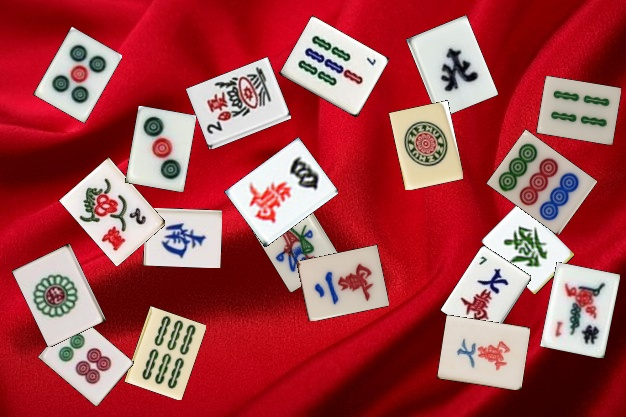bamboo-1: (248, 192, 342, 292)
bamboo-4: (536, 76, 621, 145)
bamboo-6: (124, 305, 206, 400)
bamboo-7: (279, 15, 389, 117)
bonus-plum: (540, 261, 620, 358)
bonus-summer: (58, 157, 165, 266), (186, 56, 291, 149)
characters-2: (297, 244, 389, 321)
characters-4: (224, 137, 338, 247)
characters-7: (440, 245, 531, 342), (437, 314, 530, 390)
dots-1: (12, 243, 106, 347), (388, 100, 463, 190)
dots-3: (125, 106, 196, 192)
dots-5: (33, 27, 122, 123)
dots-6: (38, 312, 134, 406)
dots-9: (486, 129, 597, 235)
honors-green: (480, 200, 574, 294)
honors-north: (406, 15, 498, 119)
honors-south: (143, 208, 222, 268)
